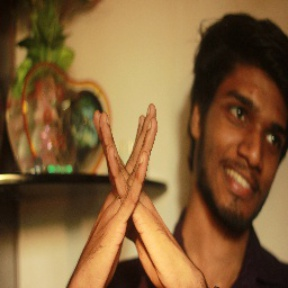W: (81, 93, 173, 279)
